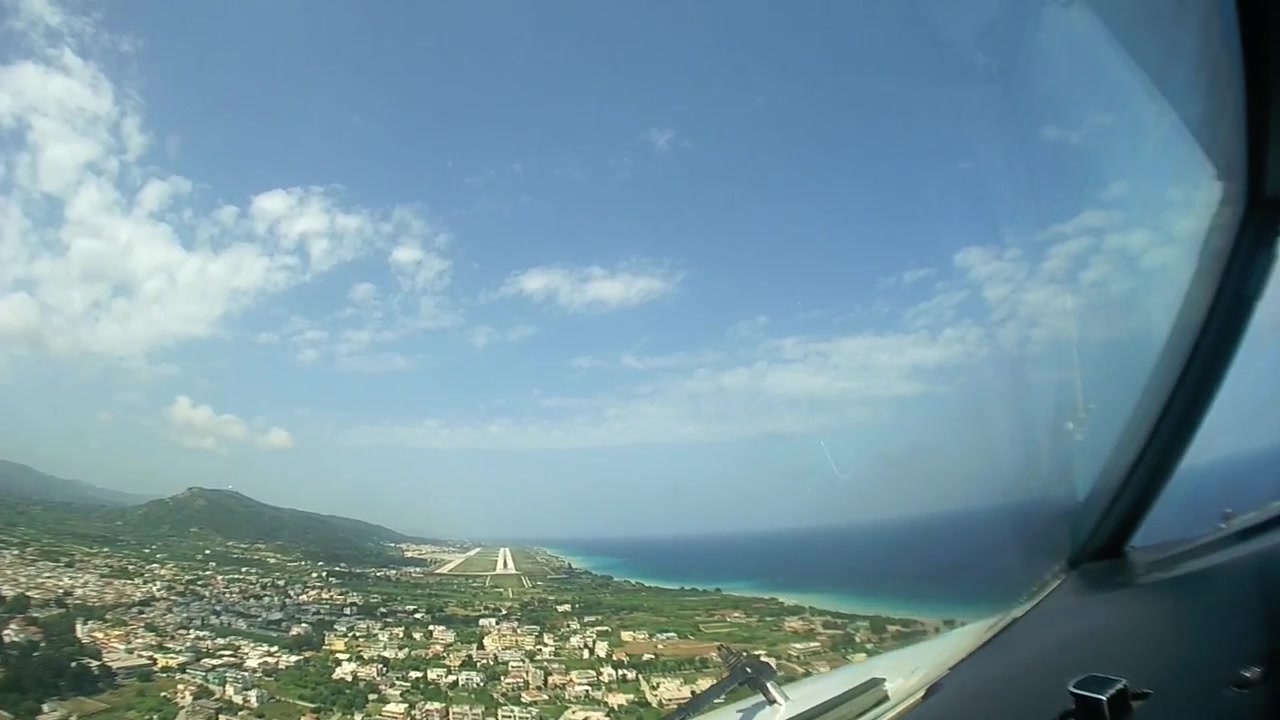runway: (493, 547, 518, 574)
